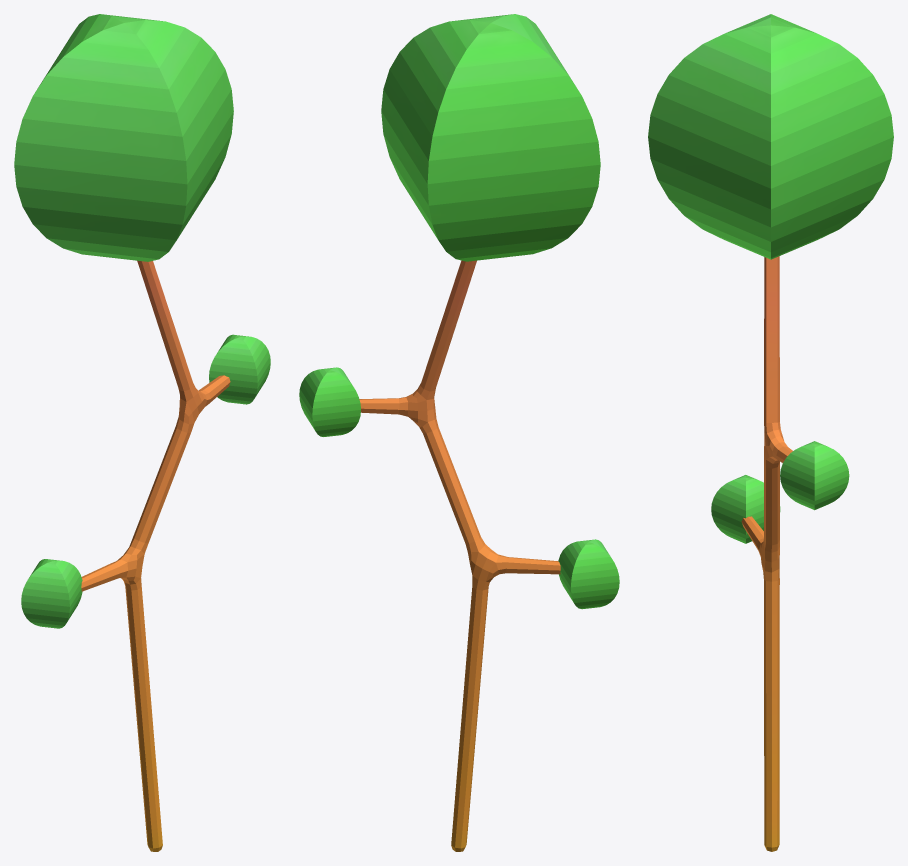
Rendered from Tree_7.fbx.
The picture shows the model from 3 angles, left to right: view 1: azimuth 30°, elevation 25°; view 2: azimuth 150°, elevation 25°; view 3: azimuth 270°, elevation 25°; orthographic projection. The views are drawn at different scales.
Parts seen in each view (by area): view 1: Tree_7; view 2: Tree_7; view 3: Tree_7.
Boxes of the visible parts, x1,y1,x2,y2 form: Tree_7: (14,14,270,851); Tree_7: (299,14,619,851); Tree_7: (648,14,893,851).
Bounding box in the file's own units: 182 × 509 × 140.
Materials: 1 (1 with a texture image).
